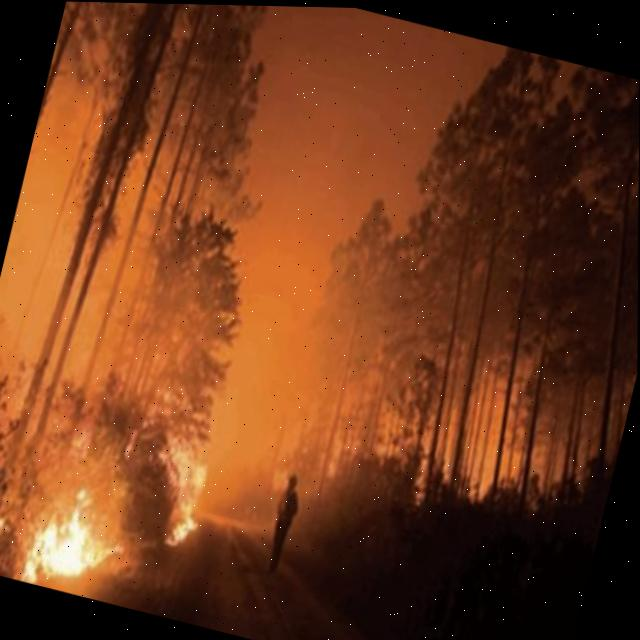fire: (23, 502, 104, 596)
smoke: (0, 1, 478, 572), (380, 37, 640, 508)
